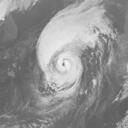cyclone: (33, 15, 99, 95)
